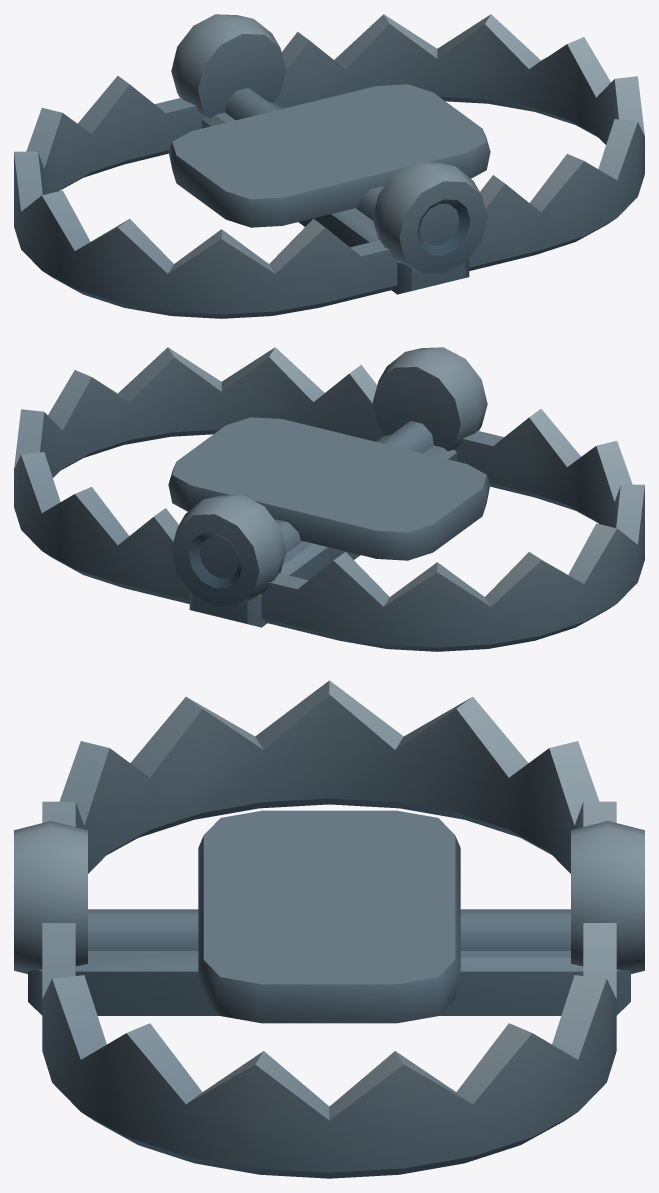
Rendered from beartrap_A.gltf.
3 renders of one model, top to bottom at view 1: azimuth 30°, elevation 25°; view 2: azimuth 150°, elevation 25°; view 3: azimuth 270°, elevation 25°, orthographic. The views are drawn at different scales.
Parts seen in each view (by area): view 1: beartrap_A, claw_A_left, claw_A_right; view 2: beartrap_A, claw_A_left, claw_A_right; view 3: beartrap_A, claw_A_right, claw_A_left.
Boxes of the visible parts, <box> form: beartrap_A: <box>168,14,490,294</box>; claw_A_left: <box>14,76,398,318</box>; claw_A_right: <box>274,14,644,270</box>; beartrap_A: <box>168,347,490,627</box>; claw_A_left: <box>260,409,644,651</box>; claw_A_right: <box>14,347,384,603</box>; beartrap_A: <box>14,810,644,1023</box>; claw_A_right: <box>42,923,616,1178</box>; claw_A_left: <box>42,680,616,873</box>.
Size of the model in its own units: 1.58 by 0.3108 by 1.09.
1 material, 1 textured.
